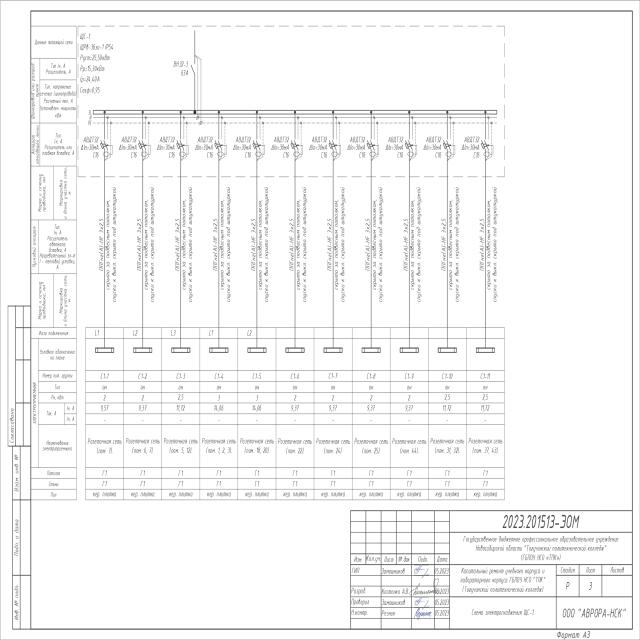-: (79, 31, 115, 52), (346, 135, 366, 161), (308, 134, 328, 160), (461, 134, 481, 160), (118, 133, 138, 159), (194, 135, 214, 161), (232, 134, 252, 160), (270, 134, 290, 160), (384, 134, 404, 160), (80, 134, 100, 160), (422, 135, 442, 160), (157, 135, 177, 160), (173, 60, 190, 76)
QFD: (290, 136, 304, 158), (404, 136, 418, 158), (252, 136, 266, 158), (442, 136, 456, 157), (100, 136, 114, 157), (366, 136, 379, 158), (481, 136, 494, 158), (214, 136, 227, 158), (177, 136, 190, 158), (328, 136, 341, 157), (138, 136, 150, 158)
QS: (190, 61, 196, 76)
